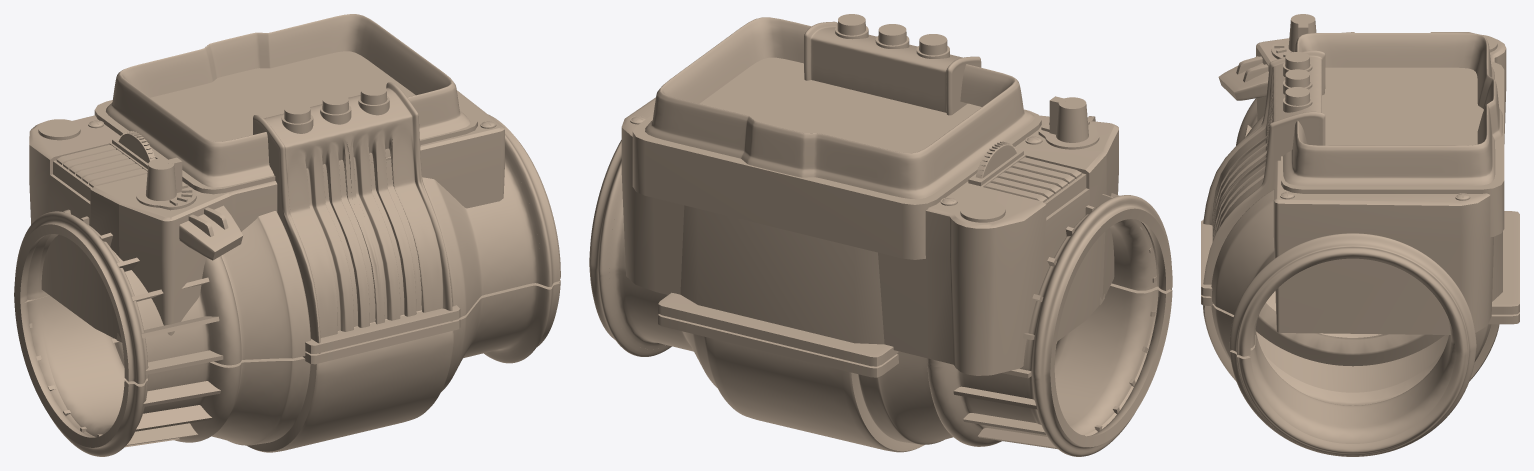
Rendered from pipboy_wip.glb.
3 renders of one model, left to right at view 1: azimuth 30°, elevation 25°; view 2: azimuth 150°, elevation 25°; view 3: azimuth 270°, elevation 25°, orthographic. The views are drawn at different scales.
Parts seen in each view (by area): view 1: Object_2, Object_3; view 2: Object_2, Object_3; view 3: Object_2, Object_3.
Part boxes in pixels (box(x1,y1,x2,y2)): Object_2: box(14, 14, 560, 456); Object_3: box(20, 82, 560, 452); Object_2: box(589, 17, 1172, 456); Object_3: box(590, 14, 1171, 452); Object_2: box(1203, 32, 1506, 456); Object_3: box(1201, 14, 1519, 427).
Bounding box in the file's own units: 2.44 × 1.88 × 1.66.
